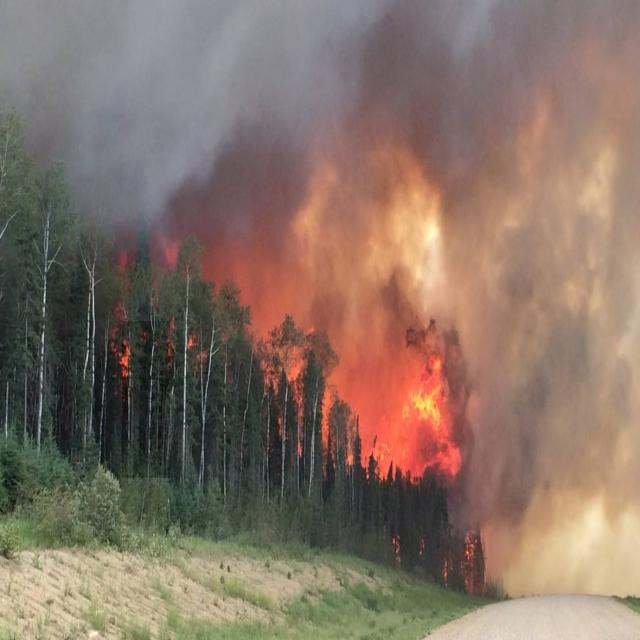Fire: (122, 321, 456, 478)
Smoke: (170, 4, 635, 533)
